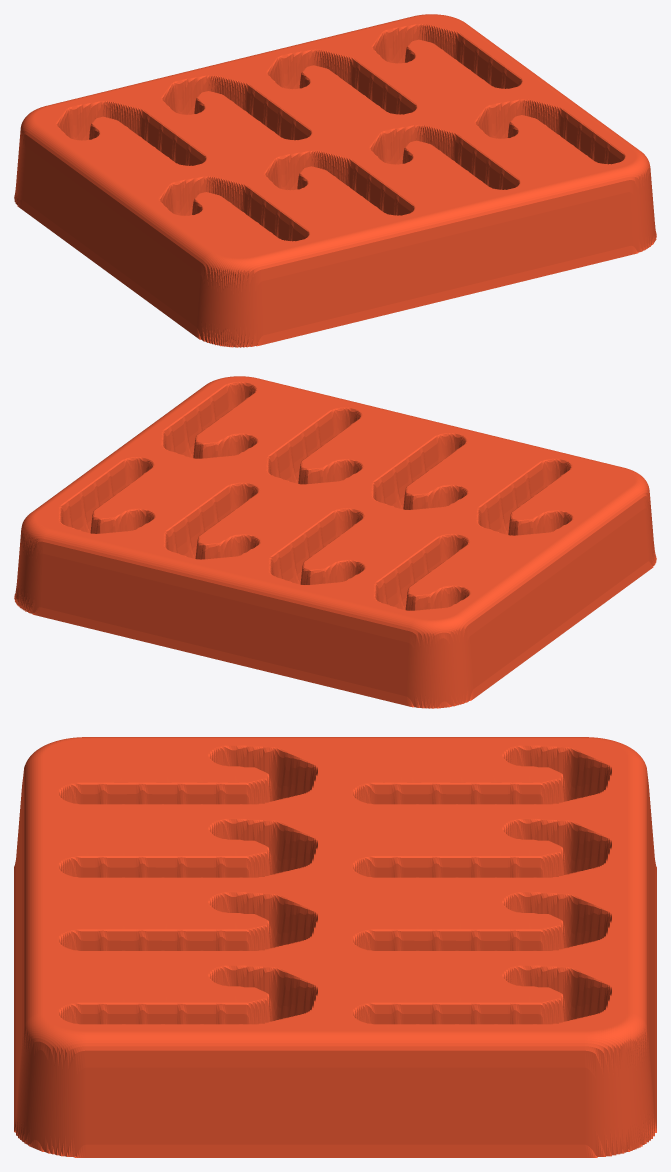
File: mold.glb
3 renders of one model, top to bottom at view 1: azimuth 30°, elevation 25°; view 2: azimuth 150°, elevation 25°; view 3: azimuth 270°, elevation 25°, orthographic. The views are drawn at different scales.
Parts seen in each view (by area): view 1: geometry_0; view 2: geometry_0; view 3: geometry_0.
Boxes of the visible parts, x1,y1,x2,y2 form: geometry_0: (14,14,656,347); geometry_0: (14,376,656,708); geometry_0: (14,737,656,1157).
Bounding box in the file's own units: 0.0943 × 0.0159 × 0.0809.
